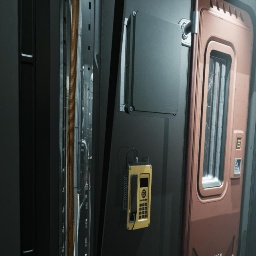EmergencyPhone ,: (122, 148, 152, 231)
